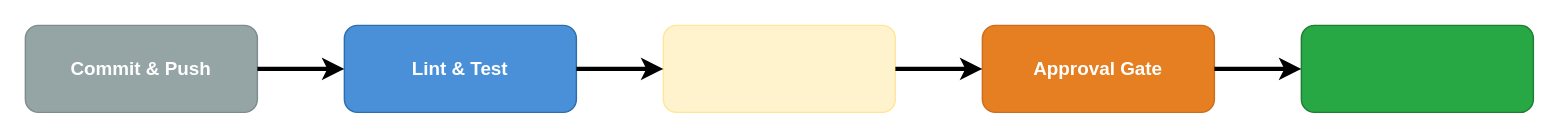
The diagram is 1559 pixels wide and 138 high, and some of its shapes have lost their labels. Each missing label, with the box of its shape:
Deploy: (1300, 24, 1533, 112)
What-If Preview: (662, 24, 895, 112)
